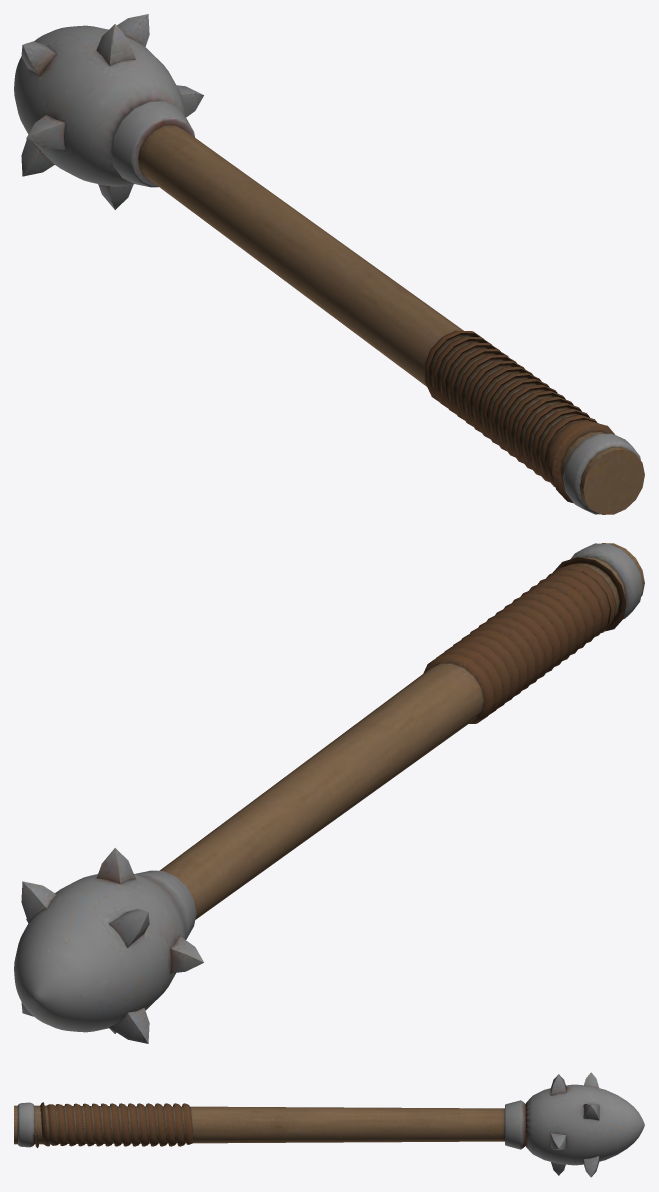
File: mace.glb
3 renders of one model, top to bottom at view 1: azimuth 30°, elevation 25°; view 2: azimuth 150°, elevation 25°; view 3: azimuth 270°, elevation 25°, orthographic. The views are drawn at different scales.
Visible parts, largest first — view 1: mace; view 2: mace; view 3: mace.
Boxes of the visible parts, x1=… form: mace: x1=14, y1=14, x2=644, y2=514; mace: x1=14, y1=543, x2=644, y2=1043; mace: x1=14, y1=1072, x2=644, y2=1177.
Size of the model in its own units: 0.104 by 0.104 by 0.5849.
Materials: 1 (1 with a texture image).
